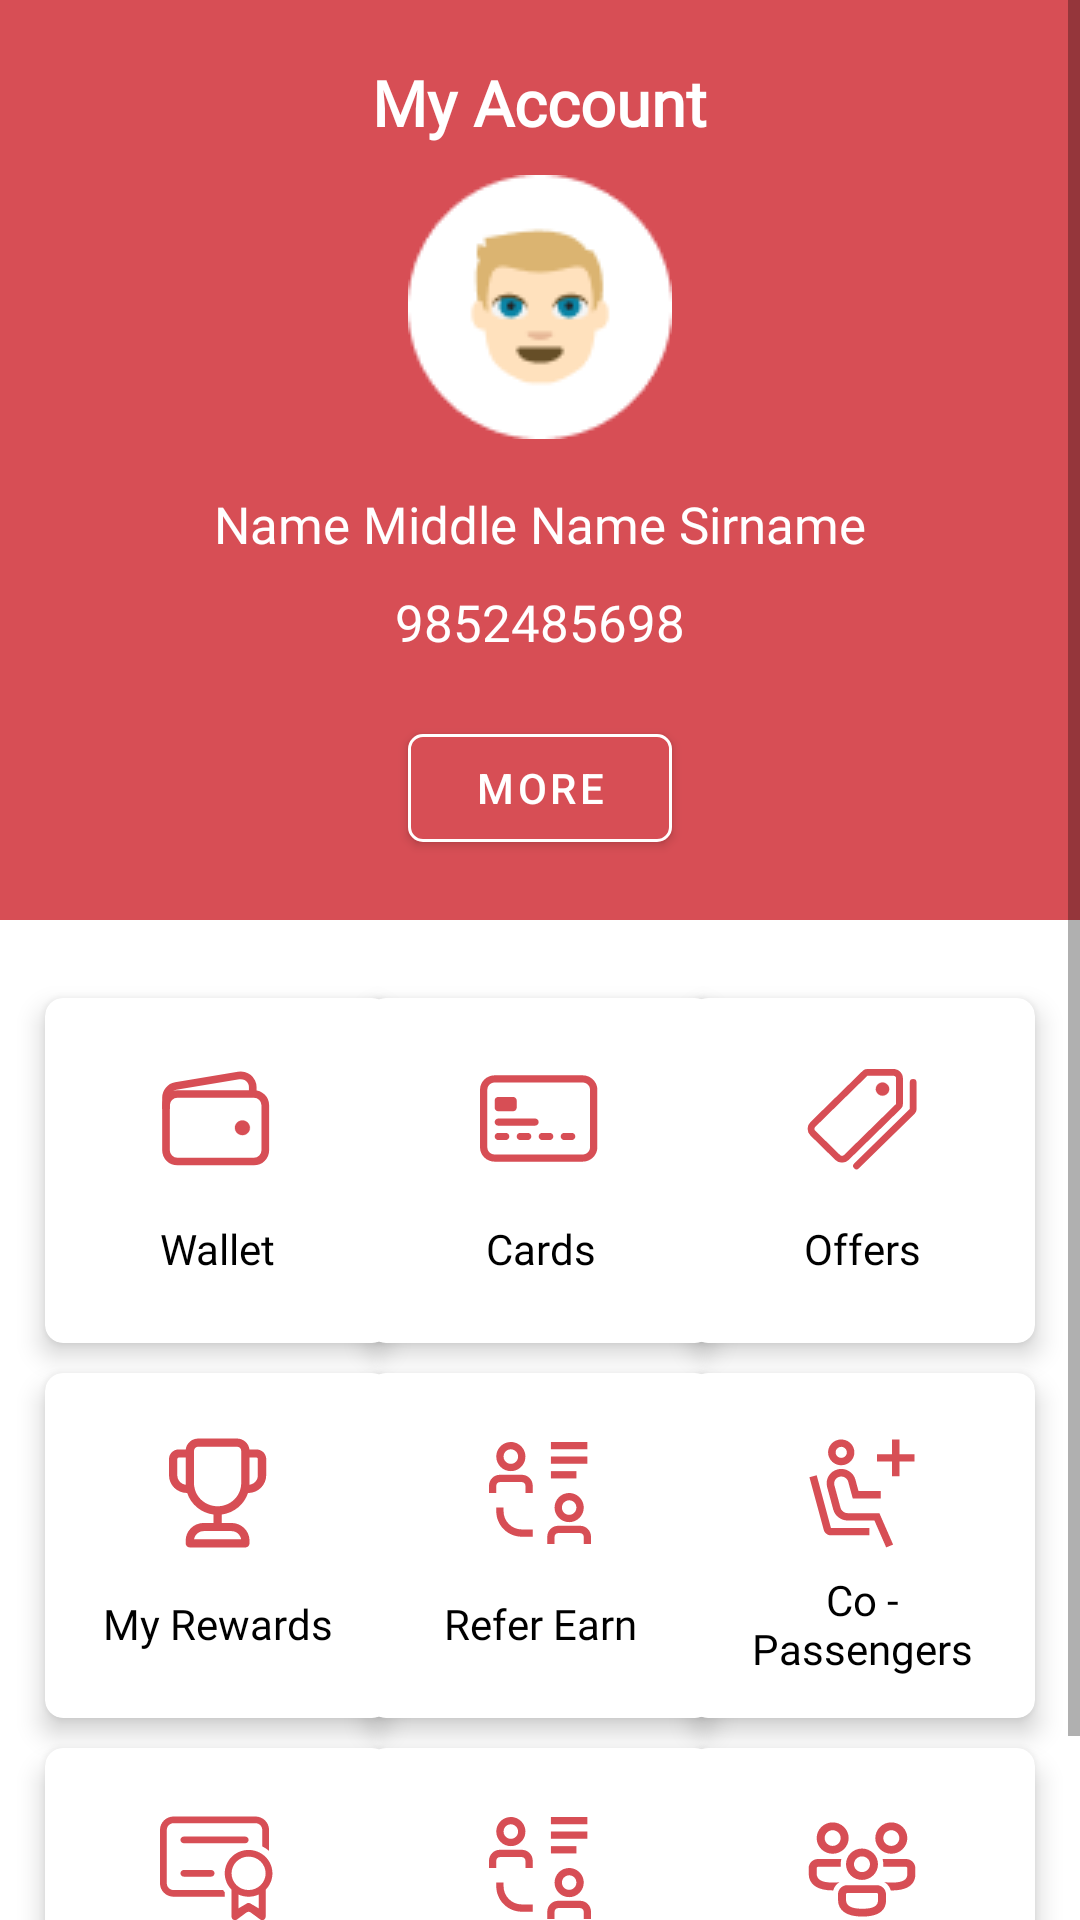

Screen size 1080px x 1920px. Icon name, then its center in pixels as (x,y):
account profile picture: (540,307)
